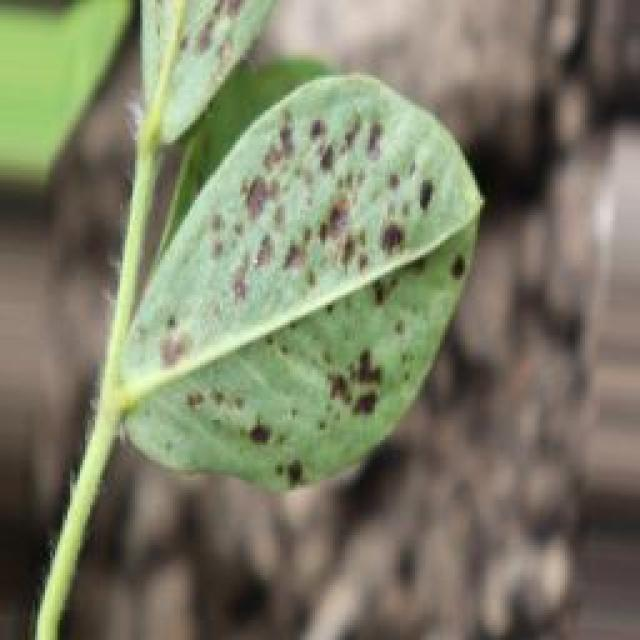Whitefly: (36, 0, 506, 513)
